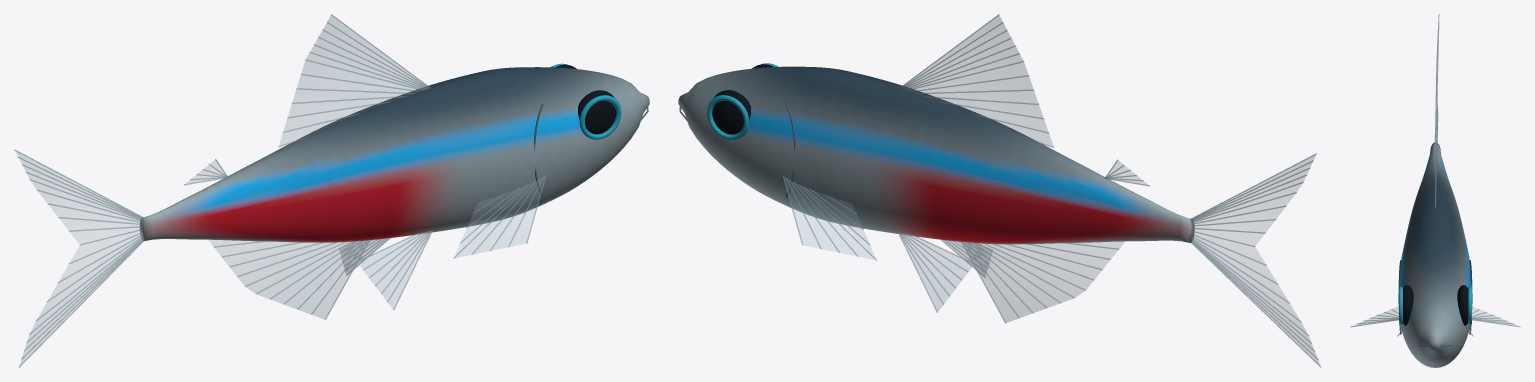
File: neon-tetra.glb
3 views of the same model, side by side, from view 1: azimuth 30°, elevation 25°; view 2: azimuth 150°, elevation 25°; view 3: azimuth 270°, elevation 25° (orthographic). The views are drawn at different scales.
Parts seen in each view (by area): view 1: Neon tetra body, Dorsal fin, Forked caudal fin, Anal fin, Pectoral fin -1, Pelvic fin -1, Dark eye -1, Iridescent iris -1, Pelvic fin 1; view 2: Neon tetra body, Dorsal fin, Forked caudal fin, Anal fin, Pectoral fin 1, Pelvic fin 1, Dark eye 1, Iridescent iris 1, Pelvic fin -1; view 3: Neon tetra body, Dark eye 1, Dark eye -1, Pectoral fin 1, Pectoral fin -1, Dorsal fin ray 00, Iridescent iris 1, Iridescent iris -1.
Part boxes in pixels (bbox=[...]): Neon tetra body: bbox=[139, 67, 649, 242]; Dorsal fin: bbox=[279, 15, 428, 145]; Forked caudal fin: bbox=[15, 151, 142, 365]; Anal fin: bbox=[209, 240, 368, 319]; Pectoral fin -1: bbox=[454, 176, 544, 257]; Pelvic fin -1: bbox=[357, 232, 430, 309]; Dark eye -1: bbox=[578, 90, 616, 134]; Iridescent iris -1: bbox=[579, 95, 621, 139]; Pelvic fin 1: bbox=[339, 238, 388, 274]; Neon tetra body: bbox=[678, 66, 1194, 244]; Dorsal fin: bbox=[903, 15, 1053, 146]; Forked caudal fin: bbox=[1192, 155, 1319, 365]; Anal fin: bbox=[962, 241, 1124, 322]; Pectoral fin 1: bbox=[784, 177, 875, 259]; Pelvic fin 1: bbox=[900, 234, 973, 311]; Dark eye 1: bbox=[712, 90, 750, 134]; Iridescent iris 1: bbox=[707, 95, 749, 140]; Pelvic fin -1: bbox=[942, 240, 991, 276]; Neon tetra body: bbox=[1398, 142, 1472, 367]; Dark eye 1: bbox=[1457, 285, 1467, 325]; Dark eye -1: bbox=[1403, 285, 1413, 325]; Pectoral fin 1: bbox=[1472, 307, 1516, 325]; Pectoral fin -1: bbox=[1354, 307, 1398, 325]; Dorsal fin ray 00: bbox=[1435, 90, 1437, 207]; Iridescent iris 1: bbox=[1468, 286, 1471, 324]; Iridescent iris -1: bbox=[1399, 286, 1402, 324].
Size of the model in its own units: 2 by 0.9222 by 0.5827.
